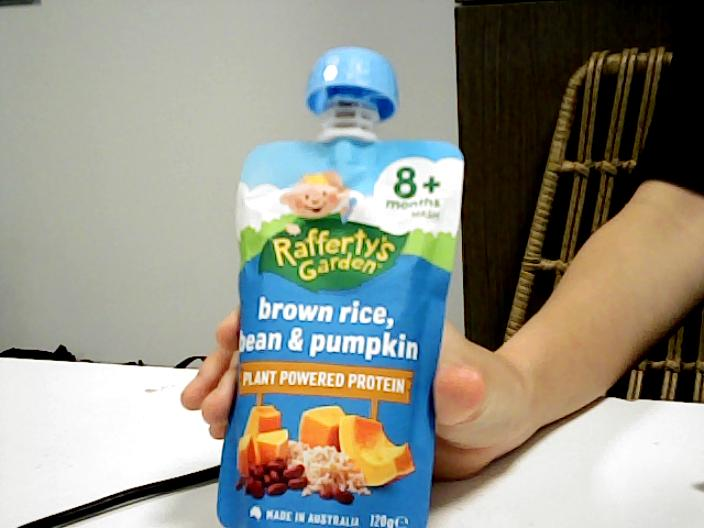Babyfood_100-199g_NonHalal_NonHealthy: (240, 160, 438, 528)
